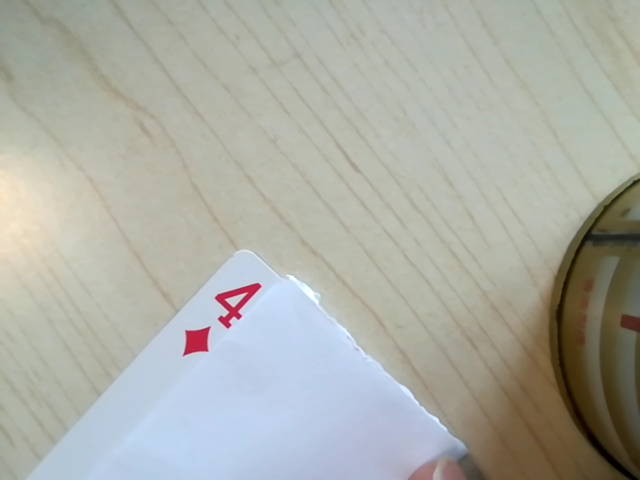fk 4: (171, 276, 270, 358)
